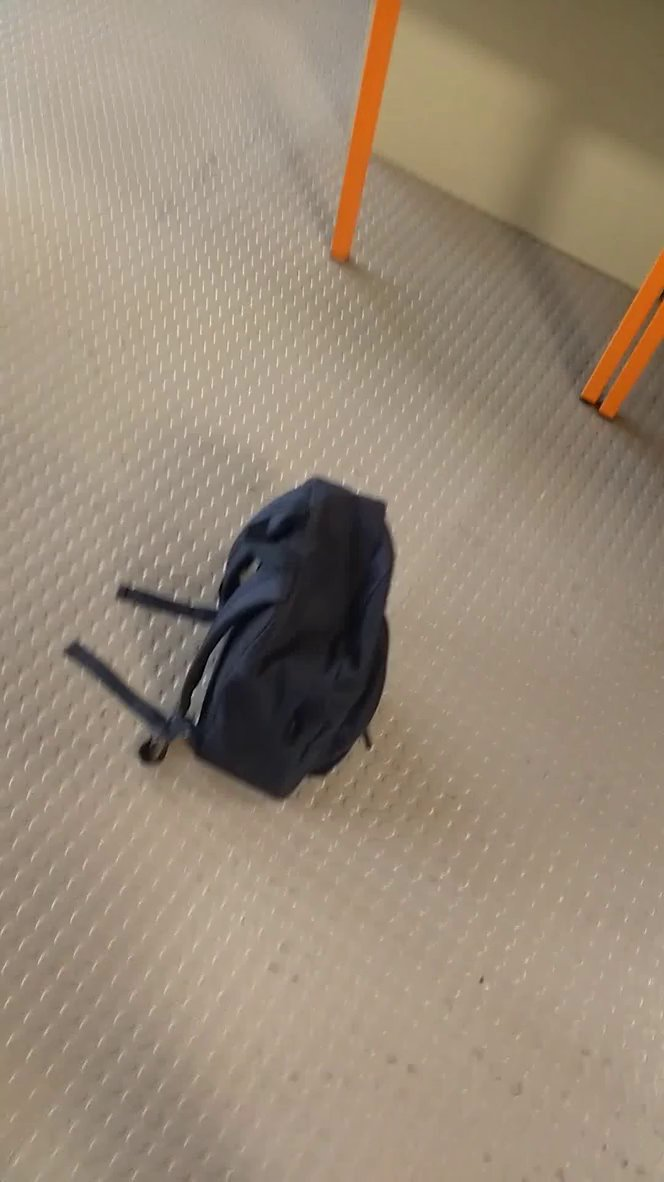bag: (54, 470, 418, 813)
